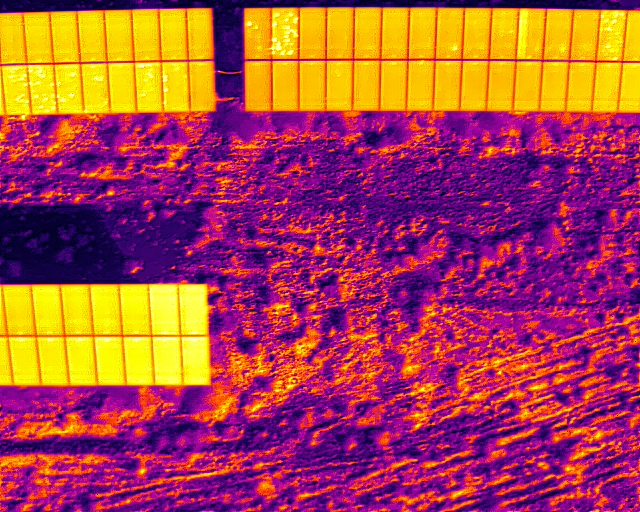multi_spot: (158, 58, 197, 110), (241, 7, 272, 65), (596, 7, 627, 64), (270, 6, 301, 62), (79, 62, 112, 112), (30, 63, 56, 116), (55, 61, 81, 112), (134, 60, 158, 113), (5, 62, 28, 115)
photovoltaic_panels: (236, 4, 639, 115), (2, 5, 217, 119), (1, 281, 213, 386)
single_spot: (431, 5, 464, 62), (542, 7, 573, 60)
stripe_spot: (513, 7, 548, 62)
